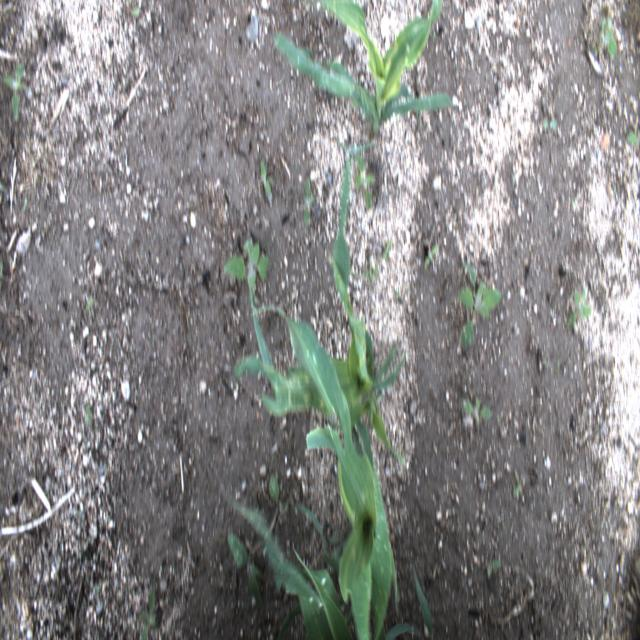crop: (220, 305, 400, 638), (232, 136, 408, 469), (273, 0, 452, 136)
weed: (457, 263, 502, 353), (226, 534, 264, 614), (225, 240, 268, 292), (3, 62, 30, 122), (356, 154, 374, 210), (464, 398, 491, 433), (597, 17, 618, 58), (268, 474, 286, 514), (302, 178, 316, 226), (260, 157, 270, 197)
